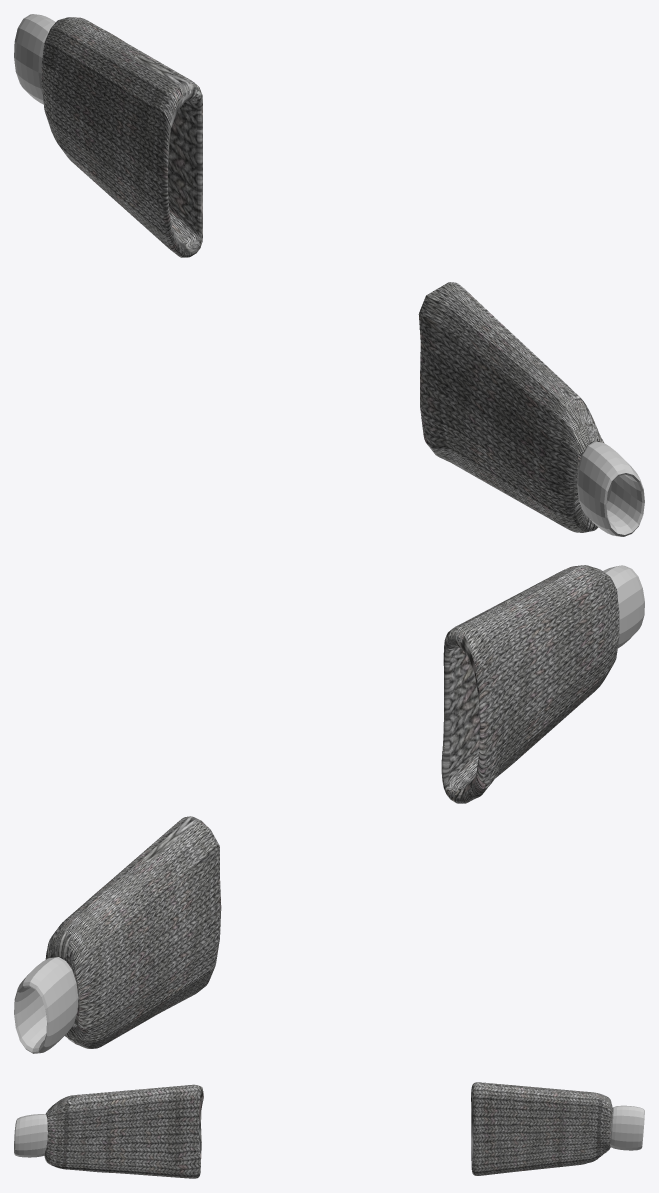
File: drop-sleeve-half.fbx
The picture shows the model from 3 angles, top to bottom: view 1: azimuth 30°, elevation 25°; view 2: azimuth 150°, elevation 25°; view 3: azimuth 270°, elevation 25°; orthographic projection. The views are drawn at different scales.
Visible parts, largest first — view 1: Cube.005, Cube.002, Cube.006, Cube.003; view 2: Cube.005, Cube.002, Cube.003, Cube.006; view 3: Cube.005, Cube.002, Cube.003, Cube.006.
Boxes of the visible parts, box(x1,y1,x2,y2) form: Cube.005: box(418, 282, 607, 532); Cube.002: box(41, 17, 202, 257); Cube.006: box(577, 441, 644, 536); Cube.003: box(14, 14, 55, 104); Cube.005: box(441, 565, 619, 803); Cube.002: box(45, 816, 221, 1048); Cube.003: box(14, 957, 78, 1053); Cube.006: box(603, 565, 644, 648); Cube.005: box(44, 1084, 203, 1178); Cube.002: box(471, 1082, 612, 1175); Cube.003: box(610, 1105, 644, 1150); Cube.006: box(14, 1114, 47, 1157).
Size of the model in its own units: 17.99 by 59.42 by 356.
